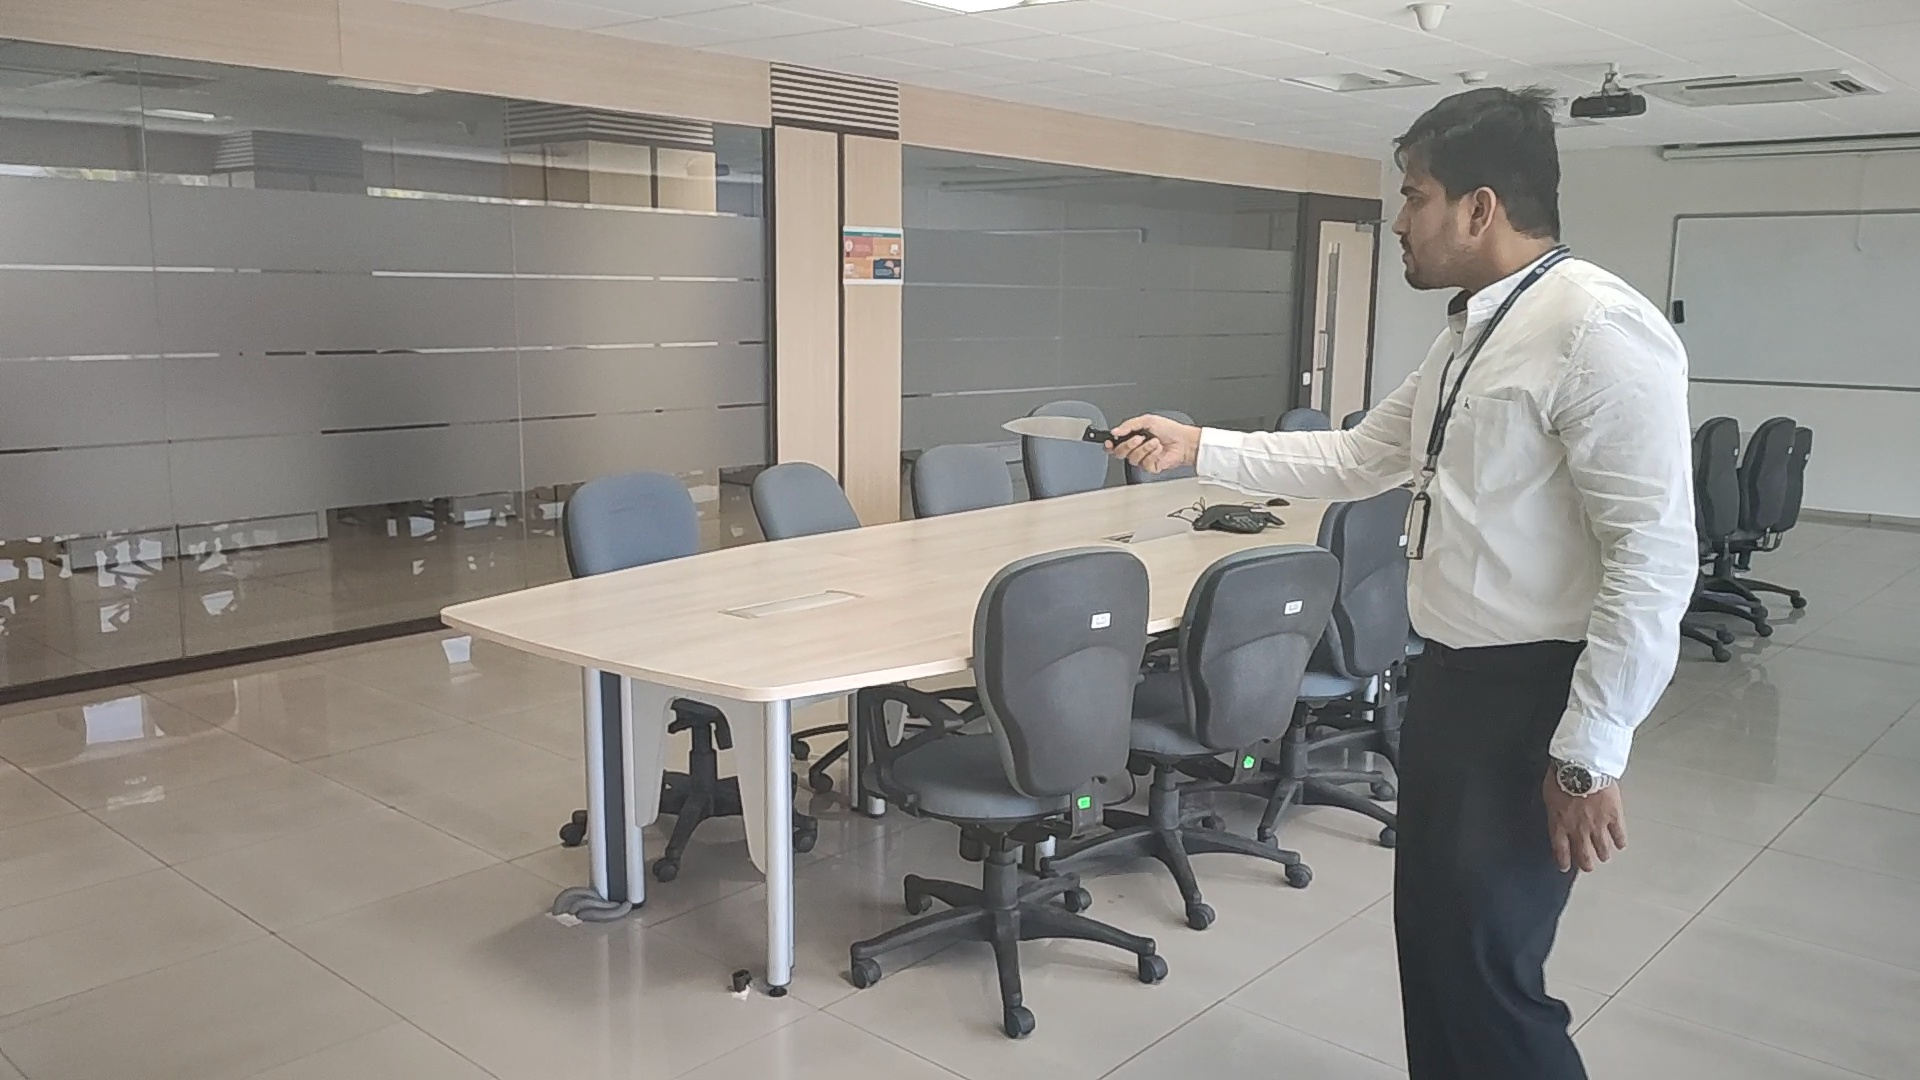knife: (1001, 414, 1120, 446)
